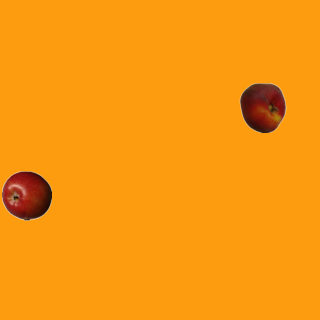Apple Braeburn: (1, 170, 51, 220)
Nectarine Flat: (237, 82, 287, 132)
